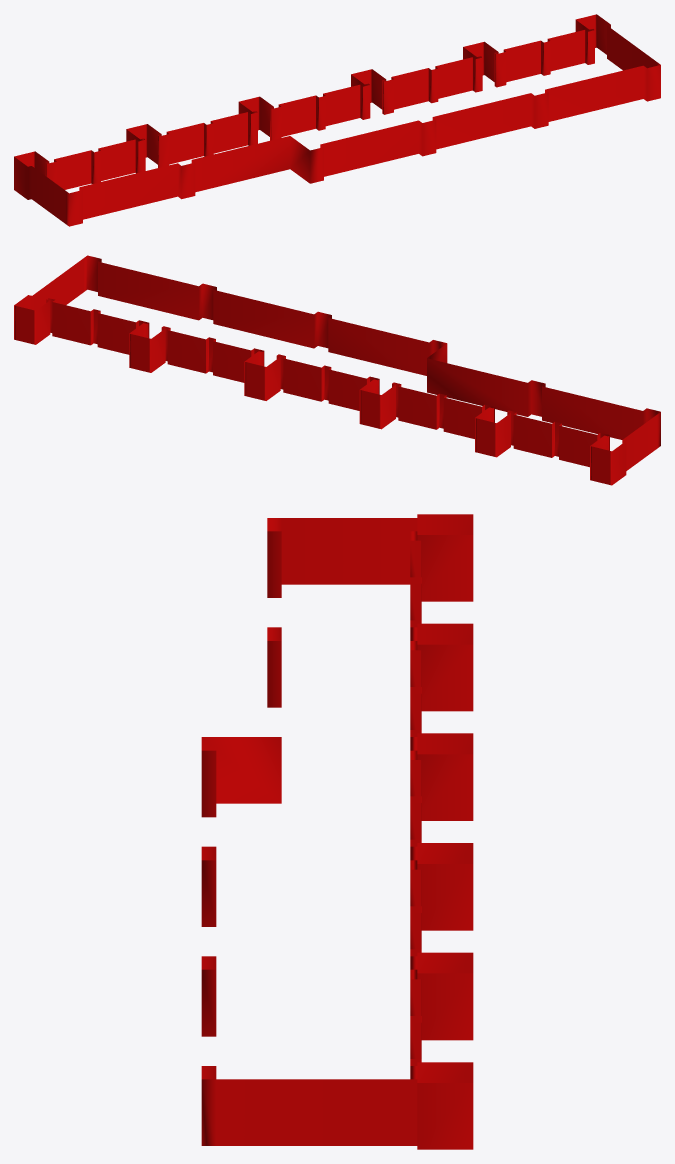
Rendered from frachtterminal_02_colmesh.fbx.
3 renders of one model, top to bottom at view 1: azimuth 30°, elevation 25°; view 2: azimuth 150°, elevation 25°; view 3: azimuth 270°, elevation 25°, orthographic. The views are drawn at different scales.
Visible parts, largest first — view 1: Mesh; view 2: Mesh; view 3: Mesh.
Part boxes in pixels (<box>): Mesh: <box>14,14,660,226</box>; Mesh: <box>14,255,660,485</box>; Mesh: <box>201,514,473,1149</box>.
Bounding box in the file's own units: 39452 × 2157 × 7952.
